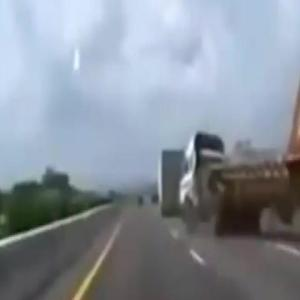severe: (177, 33, 300, 252)
